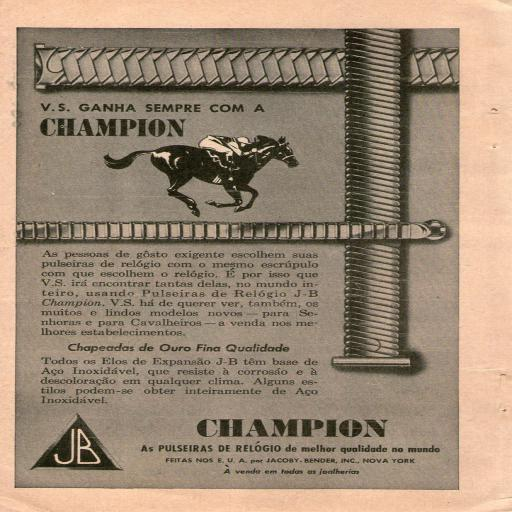Horse: (105, 135, 299, 217)
